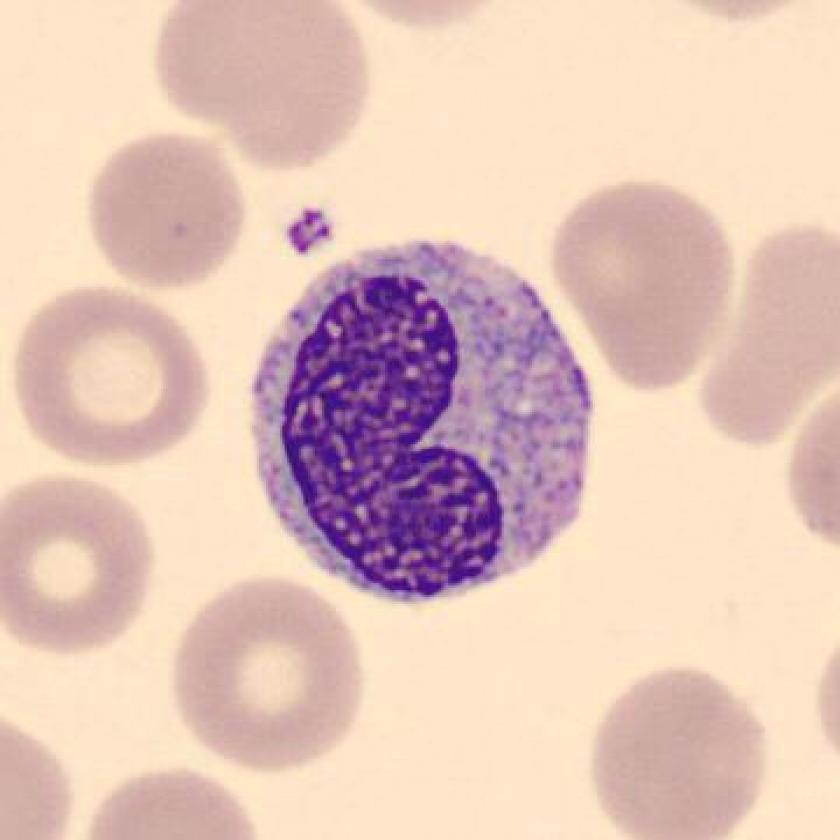monocyte: (237, 226, 612, 617)
